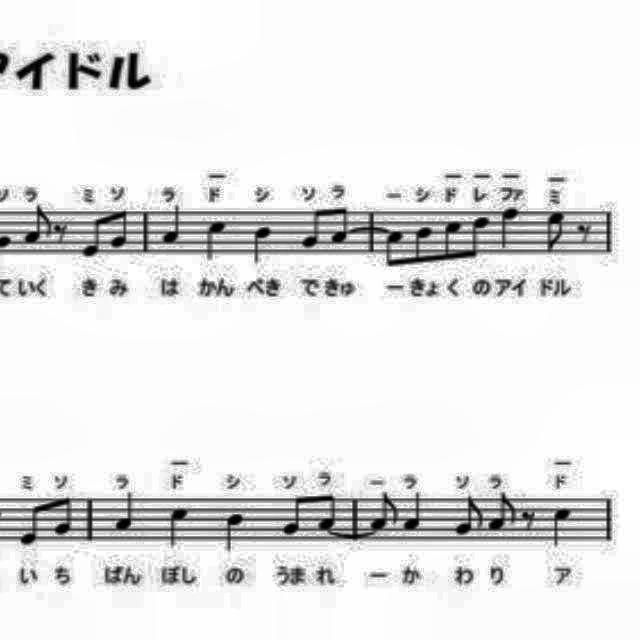Eighth-note: (446, 493, 486, 539), (538, 207, 574, 257), (364, 489, 404, 533), (19, 202, 55, 250), (467, 212, 498, 264), (16, 501, 44, 552), (487, 491, 519, 534), (441, 218, 467, 270), (277, 493, 305, 541), (298, 206, 326, 252), (80, 209, 104, 261), (51, 493, 78, 539), (380, 228, 408, 272), (314, 491, 342, 534), (329, 204, 353, 252), (412, 222, 436, 270), (108, 208, 132, 248)
Eighth-rest: (48, 216, 74, 246), (574, 216, 596, 248), (518, 506, 538, 534)
Quarter-note: (160, 202, 186, 254), (110, 486, 138, 534), (220, 508, 248, 556), (204, 217, 232, 263), (166, 502, 192, 550), (496, 204, 520, 252), (250, 225, 276, 265), (548, 505, 572, 547), (401, 492, 425, 532)
